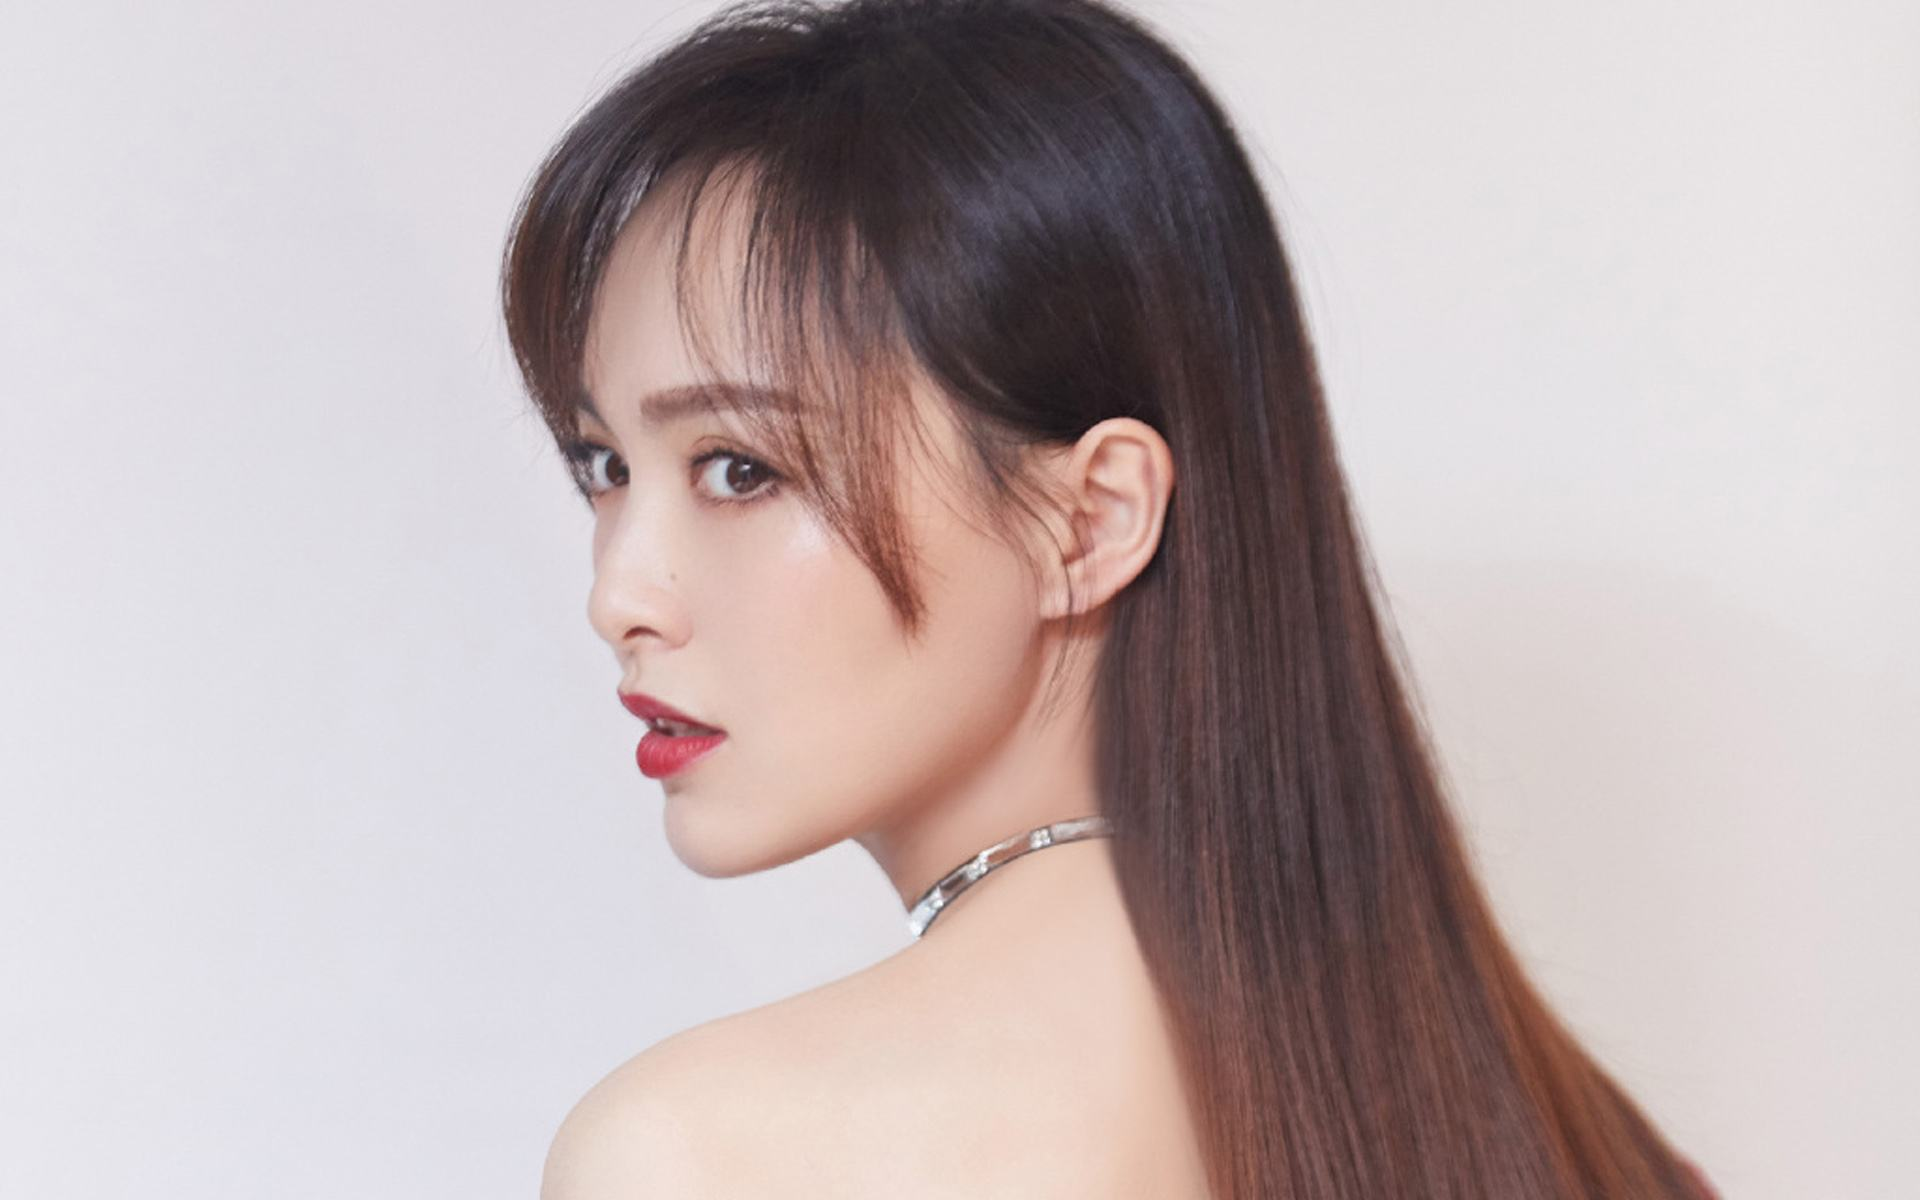person: (426, 48, 1530, 1200)
